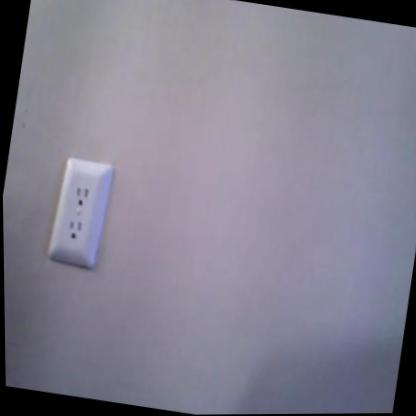OUTLET: (46, 155, 111, 266)
